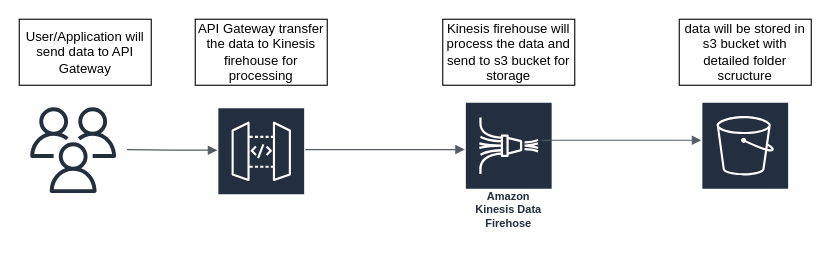
Some shapes in this 831 by 253 pixel diagram are drawn without their labels. Each missing label, with the box of its shape:
Amazon API Gateway: (216, 106, 305, 228)
Amazon S3: (700, 101, 789, 212)
